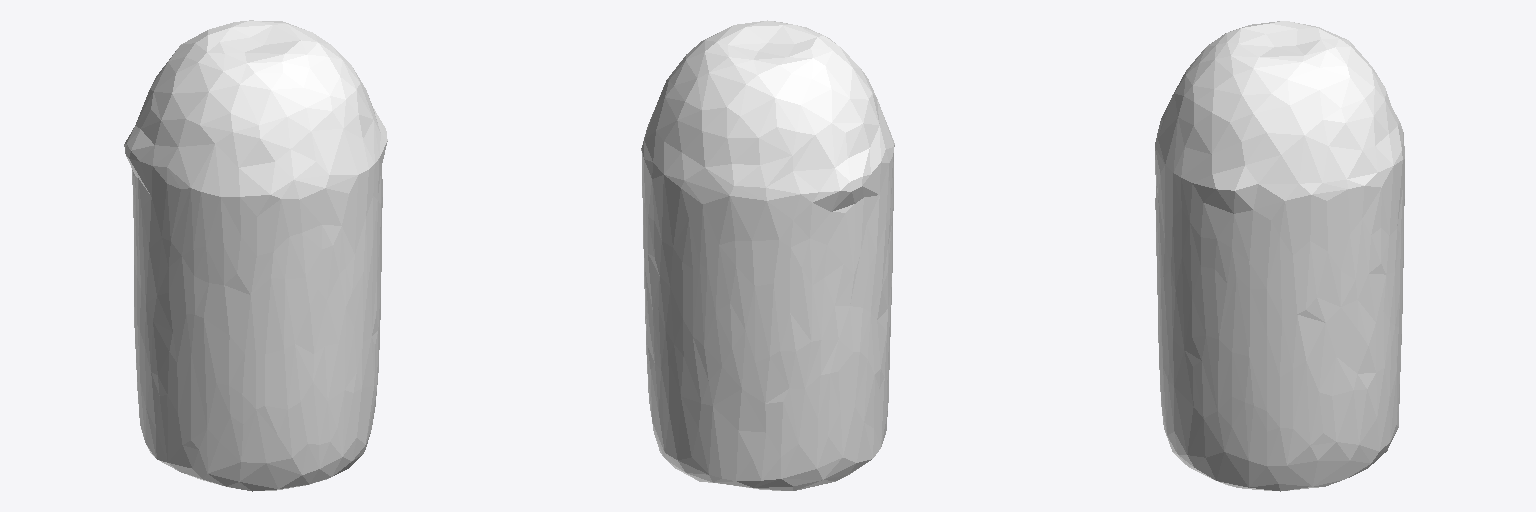
The robot description file, URDF, robot "trash_can_new_obstacle":
<?xml version="1.0" ?>
<robot name="trash_can_new_obstacle">
  <link name="baseLink">
    <contact>
    	<friction_anchor/>
           <!--<lateral_friction value="1.0"/>-->
    	   <lateral_friction value="1.0"/>
    </contact>
    <inertial>
      <origin rpy="0 0 0" xyz="0 0 0"/>
       <!-- mass controls penetration -->
       <!--<mass value=".1"/>-->
       <mass value=".1"/>
       <inertia ixx="1" ixy="0" ixz="0" iyy="1" iyz="0" izz="1"/>
    </inertial>
    <visual>
      <origin rpy="0 0 0" xyz="0 0 0"/>
      <geometry>
        <mesh filename="../meshes/meshes_obj/trash_can_new.obj"/>
      </geometry>
       <material name="white">
        <color rgba="1 1 1 1"/>
      </material>
    </visual>
    <collision>
      <origin rpy="0 0 0" xyz="0 0 0"/>
      <geometry>
        <mesh filename="../meshes/meshes_obj/trash_can_new.obj"/>
      </geometry>
    </collision>
  </link>
</robot>

--- Facts derived from the render (not from the file) ---
Views: 3 orthographic renders of the robot side by side, from view 1: azimuth 30°, elevation 25°; view 2: azimuth 150°, elevation 25°; view 3: azimuth 270°, elevation 25°.
Robot: trash_can_new_obstacle — 1 links, 0 joints (none); root link baseLink; default pose: all joints at 0.
Links seen in each view (by area): view 1: baseLink; view 2: baseLink; view 3: baseLink.
Link boxes in pixels (box(x1,y1,x2,y2)): baseLink: box(124, 20, 387, 491); baseLink: box(641, 20, 894, 490); baseLink: box(1155, 21, 1404, 491).
Size in the robot's own frame: 0.0715 by 0.0709 by 0.1301 metres.
1 mesh visuals loaded from 1 distinct referenced files (1 OBJ).